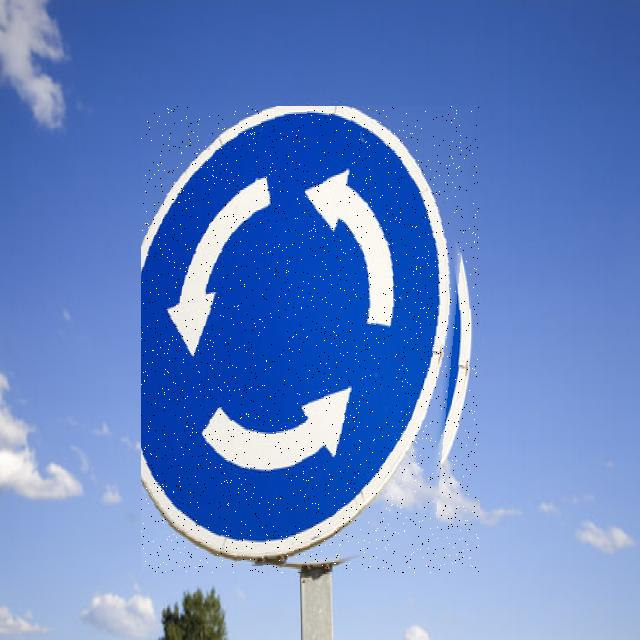roundabout: (142, 106, 480, 573)
